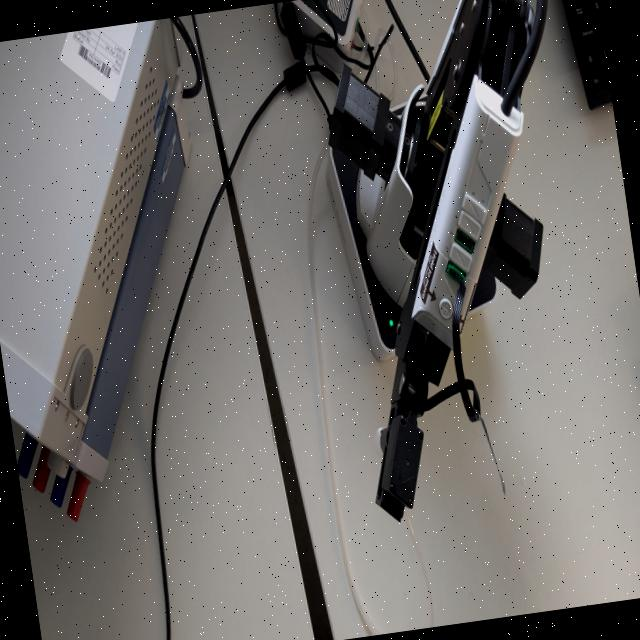Robot-end-effector-HF8z: (361, 398, 438, 529)
